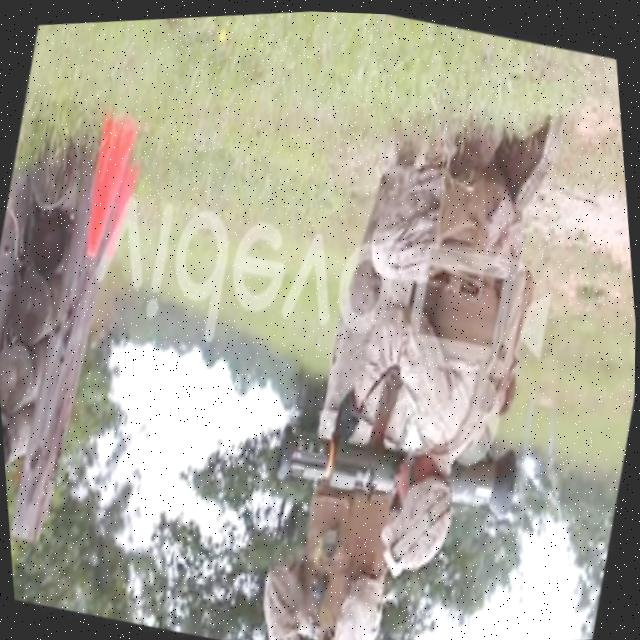rocket: (269, 385, 531, 539)
